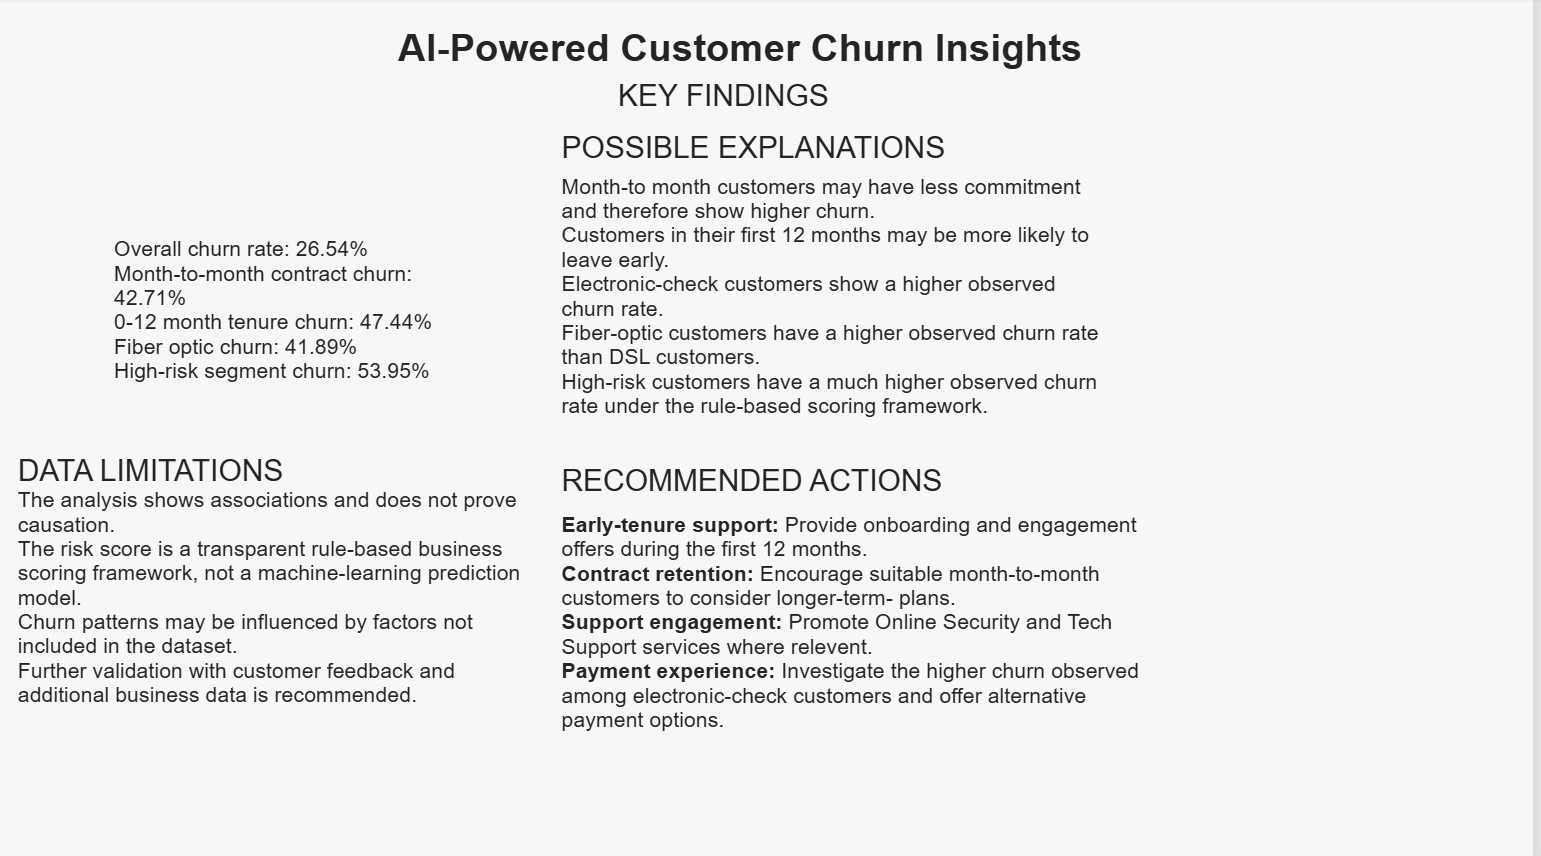

The page's visual inventory and layout, read from the dashboard file:
{"tool":"powerbi","page":{"name":"AI Insights","canvas":[1920,1080],"ordinal":1},"visuals":[{"type":"textbox","box":[159,35.9,1543.3,82.6],"z":0},{"type":"textbox","box":[746.7,101.3,325.8,48.3],"z":1},{"type":"textbox","box":[149.7,299.3,461.4,210.5],"z":2},{"type":"textbox","box":[707.7,221.4,690.6,347.6],"z":3},{"type":"textbox","box":[707.7,166.8,611.1,54.6],"z":4},{"type":"textbox","box":[707.7,581.5,752.9,389.7],"z":5},{"type":"textbox","box":[29.6,569,653.2,456.8],"z":6}]}

Visuals, with their boxes in screenshot pixels (x1, y1, x2, y2), scaled from the page's 1920x1080 canvas onto the 1541x856 screenshot:
textbox: bbox=[128, 28, 1366, 94]
textbox: bbox=[599, 80, 861, 119]
textbox: bbox=[120, 237, 490, 404]
textbox: bbox=[568, 175, 1122, 451]
textbox: bbox=[568, 132, 1058, 175]
textbox: bbox=[568, 461, 1172, 770]
textbox: bbox=[24, 451, 548, 813]
